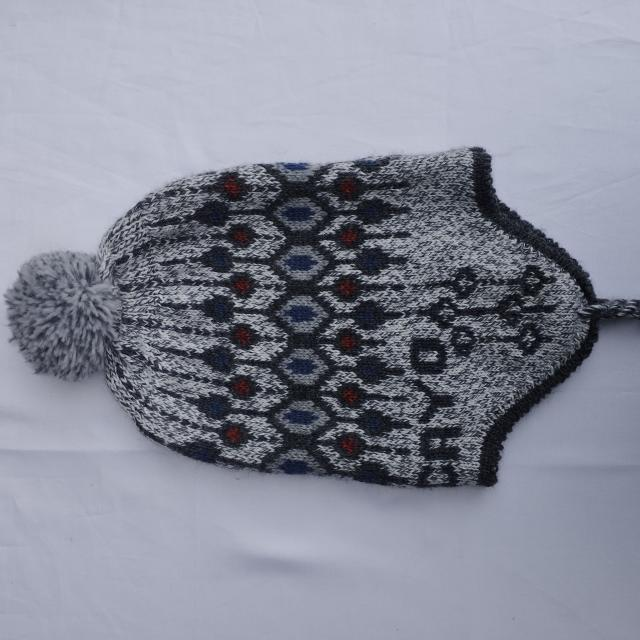Gorro: (4, 145, 638, 490)
